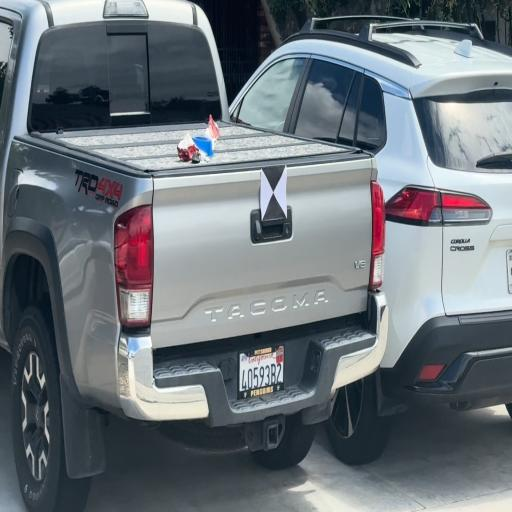target: (261, 167, 287, 219)
